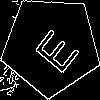E: (26, 21, 81, 76)
